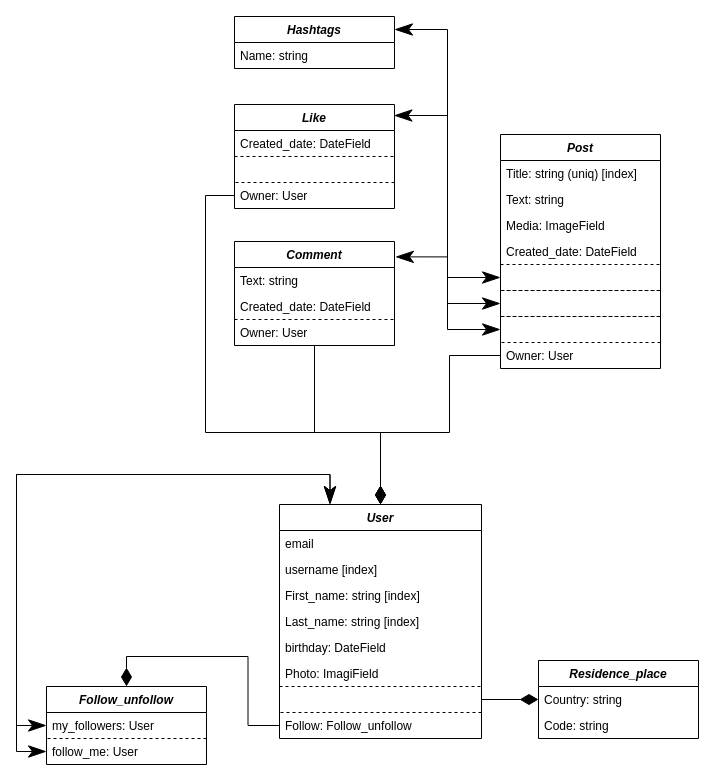
Image size: 715x781. Some labels were removed from this diagram. Here are the shapes that lost their labels. From the top down, the centre of each, then its label:
At point 314,169: "Like_post: Post".
At point 580,277: "Comments: Comment".
At point 580,303: "Likes: Like".
At point 580,329: "Hashs: Hashtags".
At point 380,699: "Residence_place: Residence_place".
